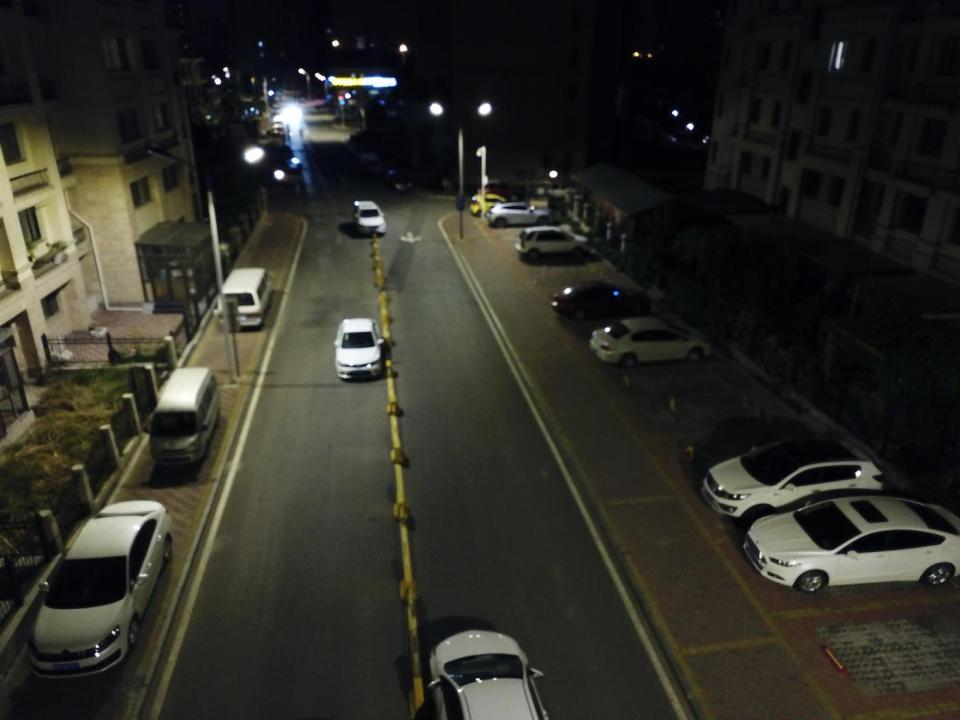car: (28, 500, 173, 680), (742, 494, 960, 594), (702, 440, 887, 525), (426, 628, 552, 720), (590, 316, 714, 368), (551, 281, 652, 322), (333, 317, 385, 380), (515, 225, 590, 261), (488, 202, 554, 228), (353, 200, 387, 235), (470, 194, 512, 218), (477, 183, 523, 202), (384, 170, 413, 192), (361, 153, 384, 173)
van: (144, 366, 220, 468), (215, 265, 273, 327)
